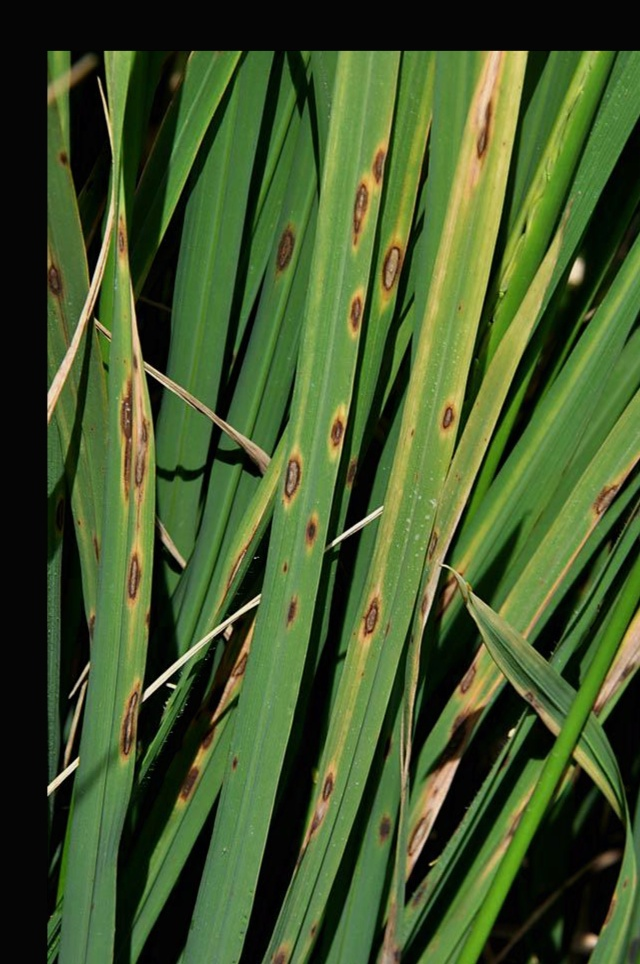Bacterial_Leaf_Blight: (113, 385, 157, 496), (106, 670, 147, 774), (265, 440, 308, 511), (465, 83, 498, 174), (113, 546, 152, 608), (342, 170, 371, 250), (369, 239, 409, 295), (589, 472, 627, 524), (355, 584, 388, 643), (359, 130, 393, 187), (323, 397, 350, 468), (597, 880, 628, 933), (170, 761, 212, 800), (272, 212, 298, 274), (104, 204, 131, 262), (342, 280, 368, 339), (370, 805, 404, 845), (48, 257, 74, 309), (407, 804, 433, 853), (435, 389, 460, 437), (312, 761, 343, 799), (263, 934, 300, 964), (453, 661, 482, 695), (276, 594, 302, 627), (52, 144, 77, 172), (223, 749, 240, 776)
